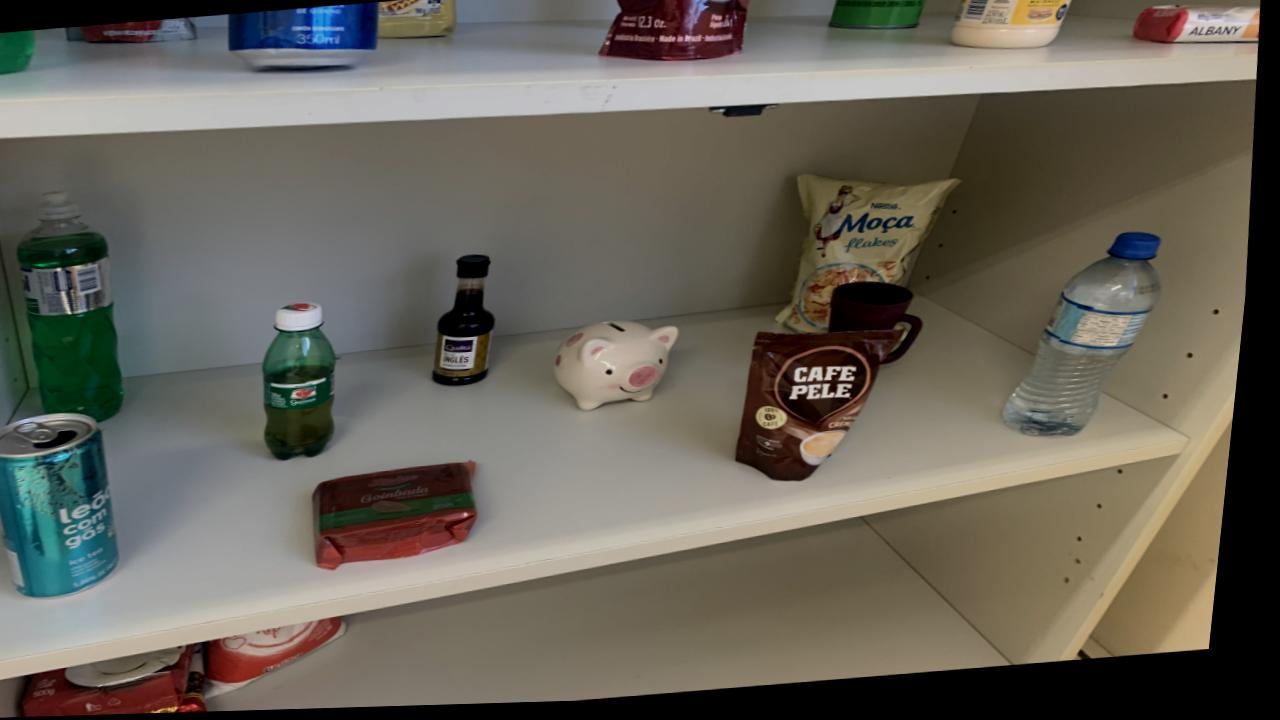Coffee-Pantry_Items: (745, 336, 911, 486)
Detergent-Cleanup_Items: (23, 192, 132, 420), (0, 30, 34, 74)
English_Sauce-Pantry_Items: (439, 258, 501, 389)
Flakes-Snacks: (784, 179, 963, 338)
Guarana-Drinks: (270, 304, 343, 462)
Guava-Snacks: (323, 465, 488, 571)
Mayonnaise-Pantry_Items: (952, 0, 1074, 55)
Mustard-Pantry_Items: (377, 0, 458, 41)
Pig_Safe-Miscellaneous: (562, 325, 686, 414)
Pringles-Snacks: (830, 0, 928, 35)
Soap-Cleanup_Items: (1135, 12, 1261, 51)
Tea-Drinks: (0, 413, 132, 598)
Tomato_Sauce-Pantry_Items: (602, 0, 751, 65), (67, 19, 197, 44)
Tonic-Drinks: (229, 4, 378, 71)
Water_Bottle-Drinks: (1013, 239, 1168, 443)
